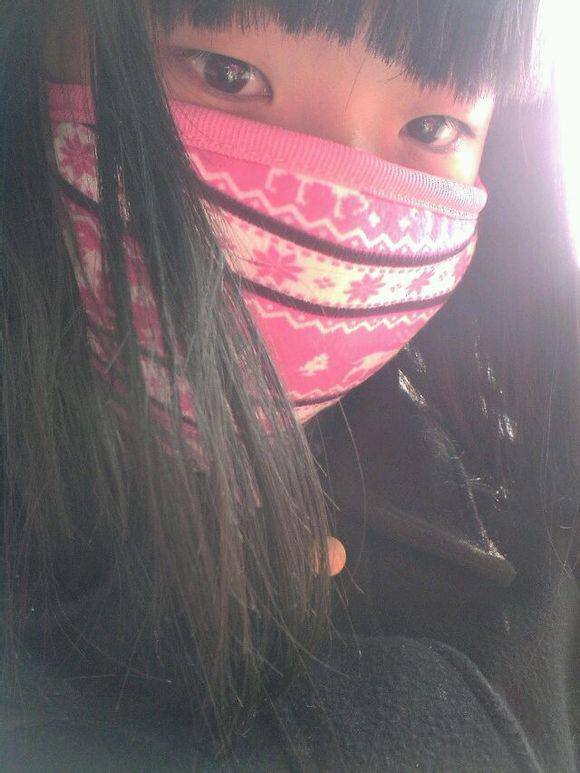OK: (60, 13, 495, 449)
